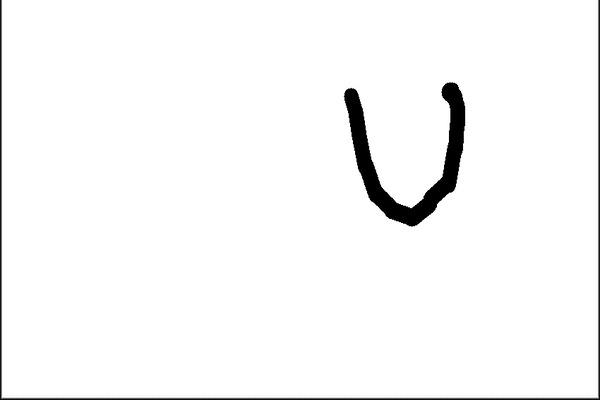U: (339, 79, 468, 234)
